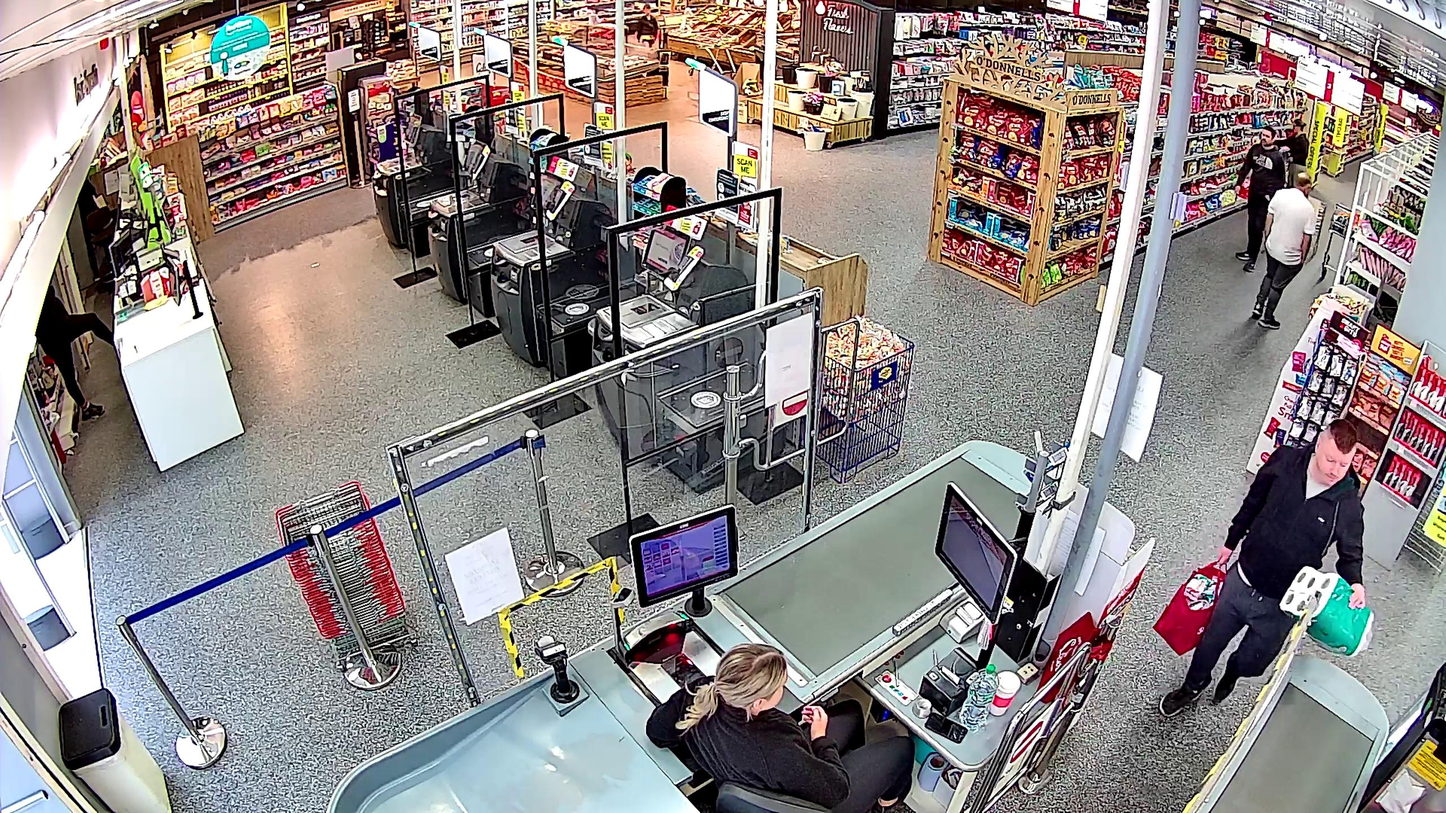carrying-item: (1279, 565, 1375, 657)
filled-shopping-bags: (1153, 553, 1231, 657)
occupied-checkout-counter: (536, 481, 1030, 813)
person: (1161, 420, 1367, 716)
person with carrying item-s- and shopping bag-s-: (1152, 421, 1374, 714)
